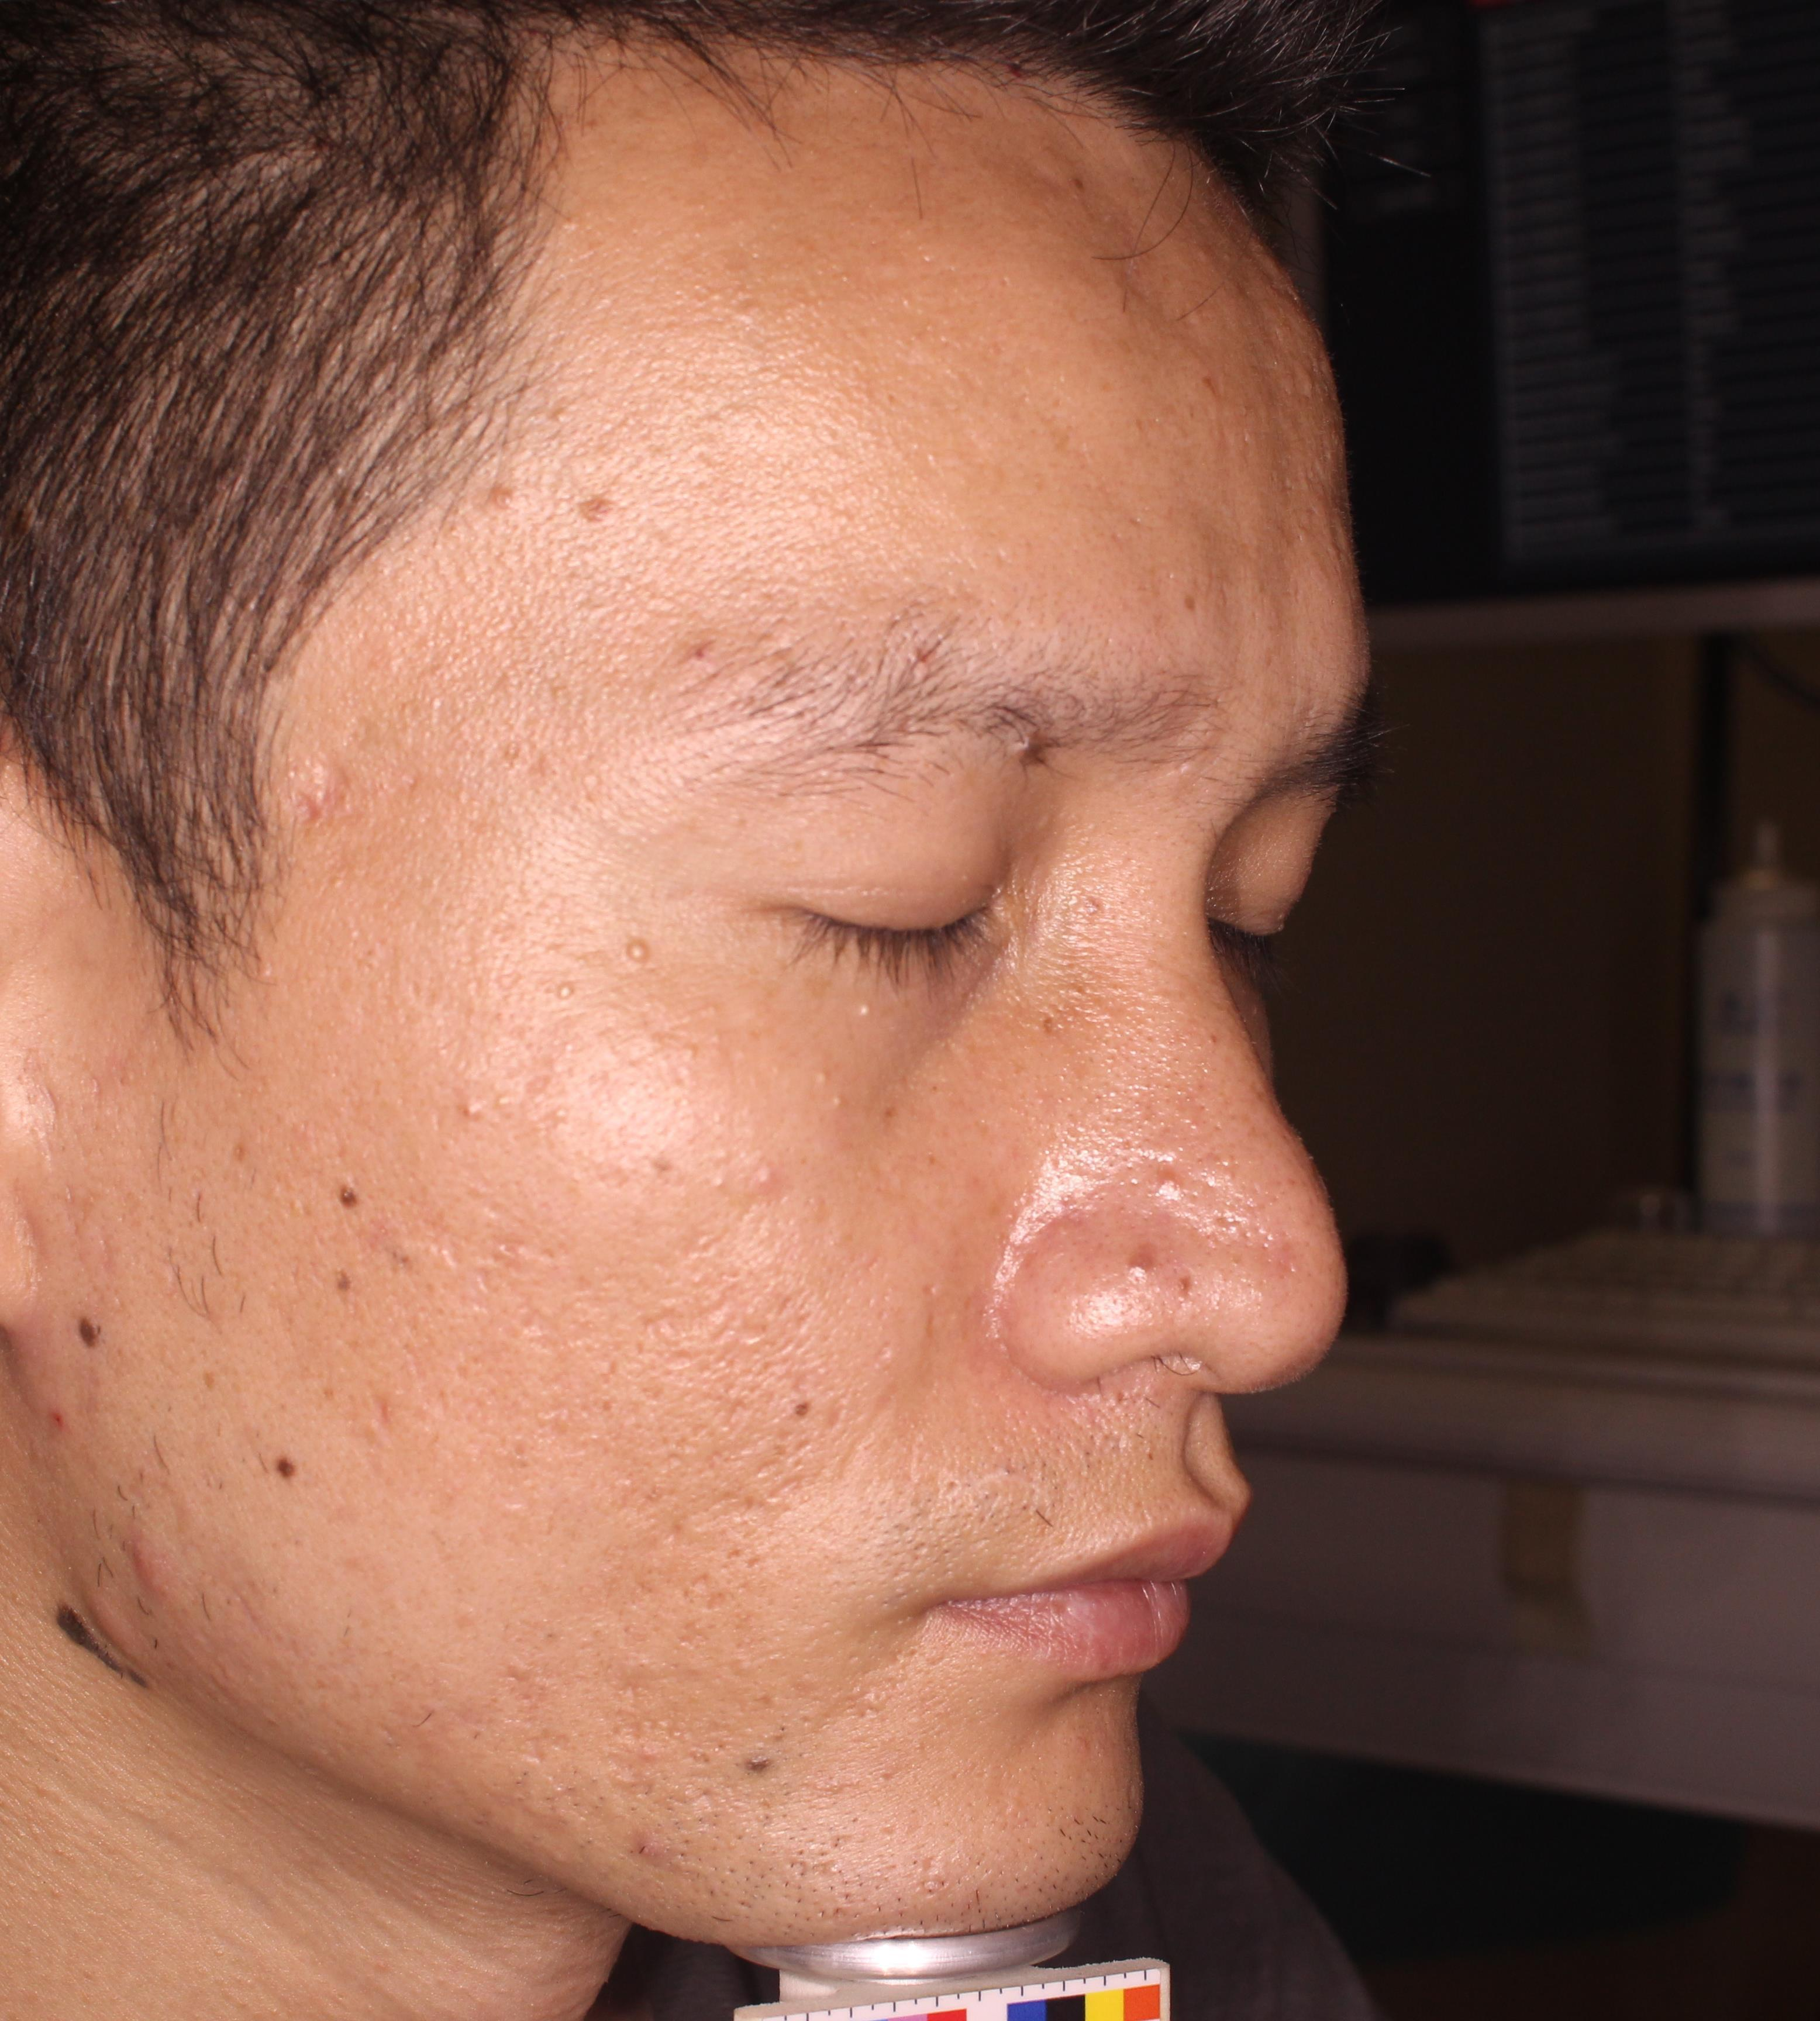fore: (95, 1528, 176, 1589), (72, 1580, 126, 1658)
